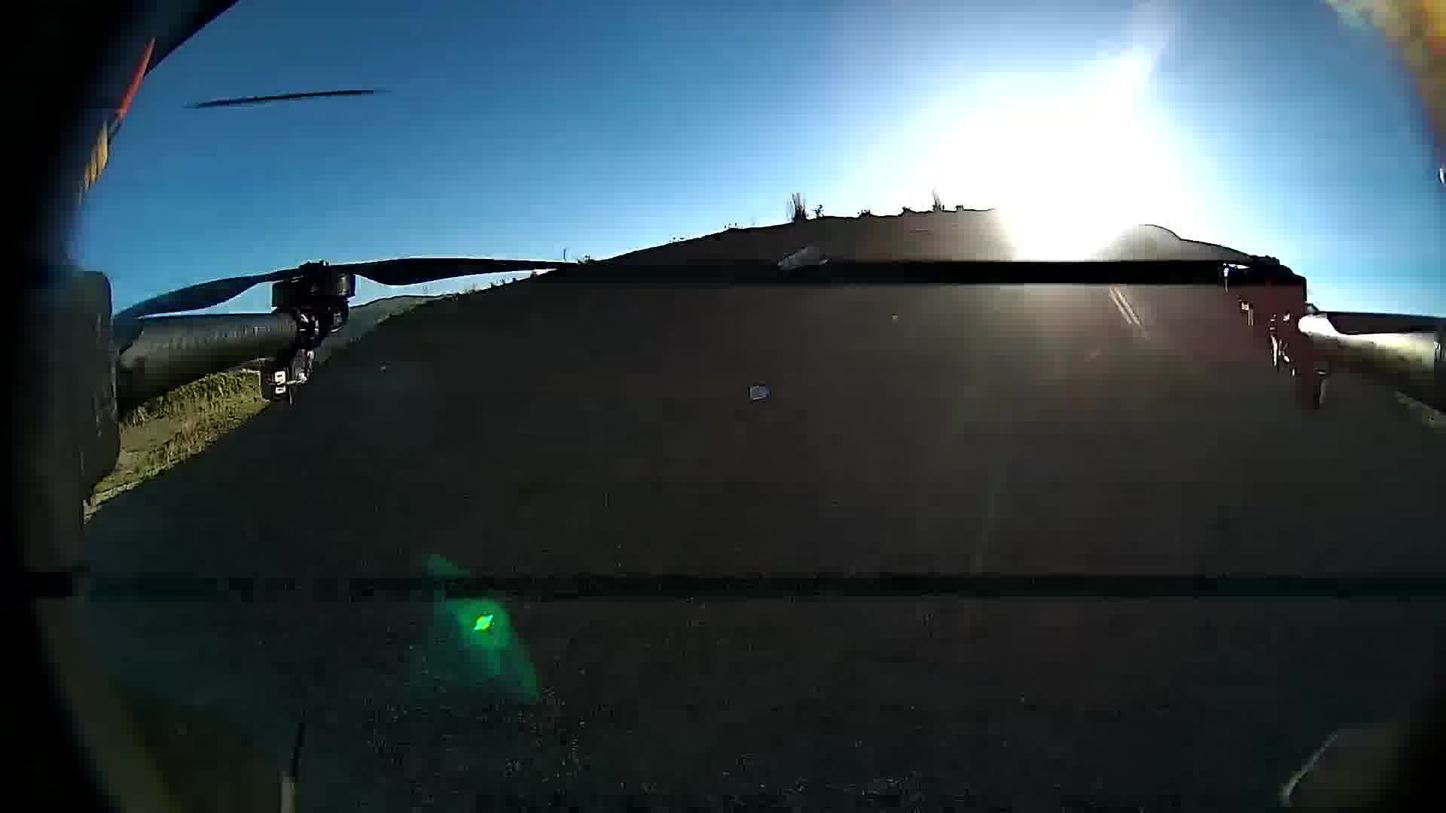Target: (747, 382, 769, 404)
